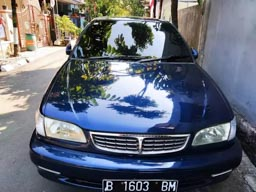plat: (101, 180, 175, 190)
